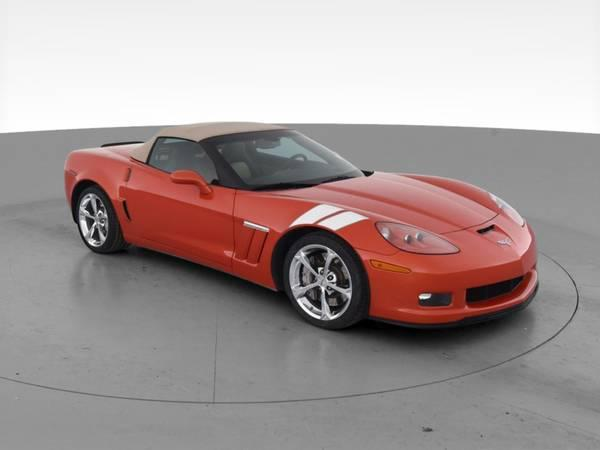Front_Bumper: (356, 209, 539, 328)
Front_Fender: (231, 194, 399, 290)
Front_Right_Door: (116, 160, 237, 275)
Front_Right_Window: (147, 139, 218, 188)
Front_Windshield: (210, 127, 364, 189)
Hood: (255, 169, 498, 233)
Left_Headlight: (487, 189, 519, 225)
Rear_Fender: (65, 148, 132, 212)
Right_Headlight: (379, 220, 461, 254)
Roof: (130, 120, 289, 190)
Wheel: (275, 235, 365, 331), (73, 189, 124, 253)
